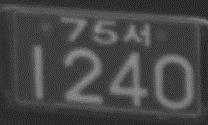0: (153, 52, 195, 110)
1: (23, 44, 55, 100)
2: (62, 47, 103, 106)
4: (109, 50, 148, 107)
5: (92, 18, 118, 45)
7: (58, 14, 88, 43)
서: (121, 22, 151, 47)
